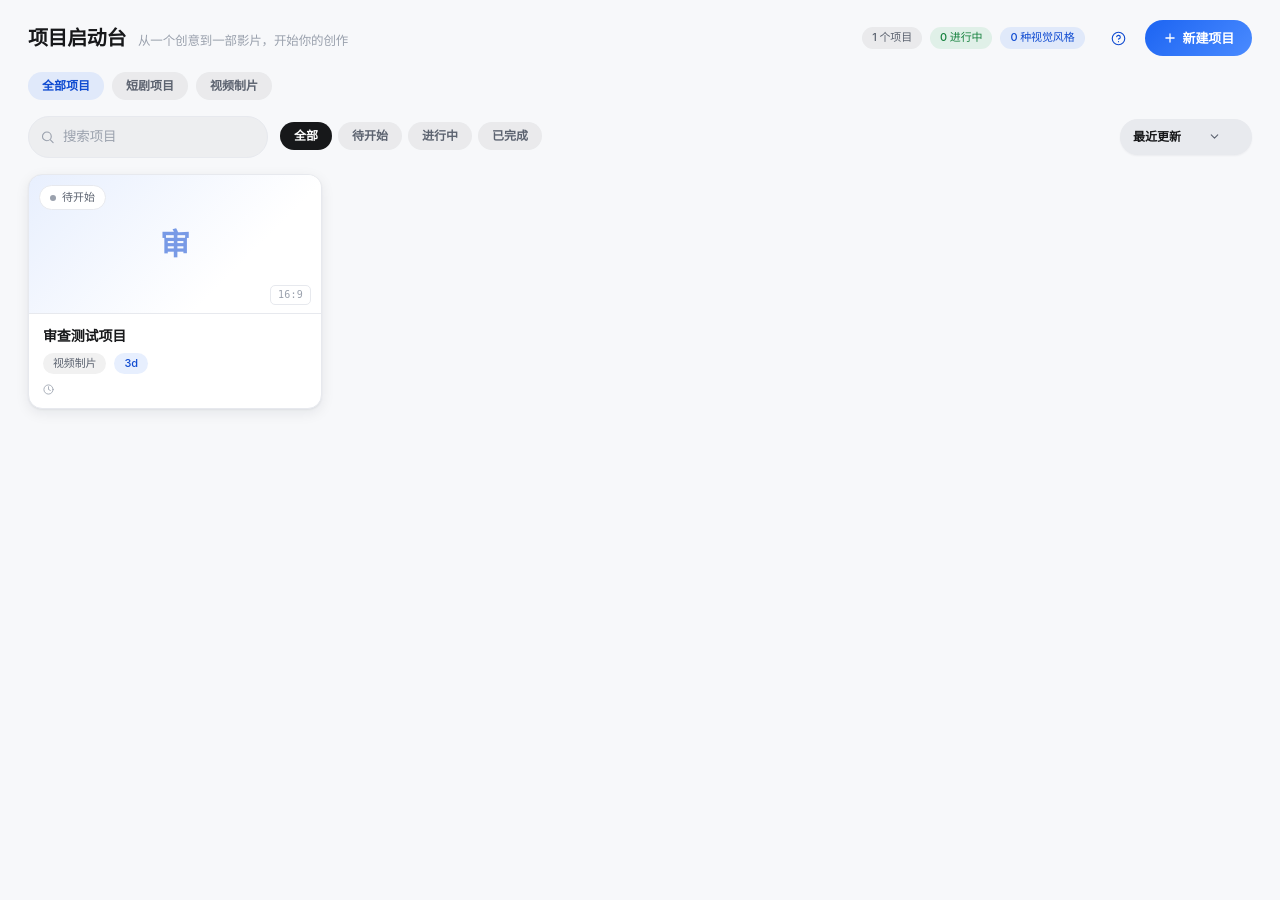
Test case: Creative project entry points › filters project types without changing legacy drama defaults
This screenshot has width=1280, height=900.
Step 1. Click the button "短剧项目" → (150, 86), box [112,72,188,100]
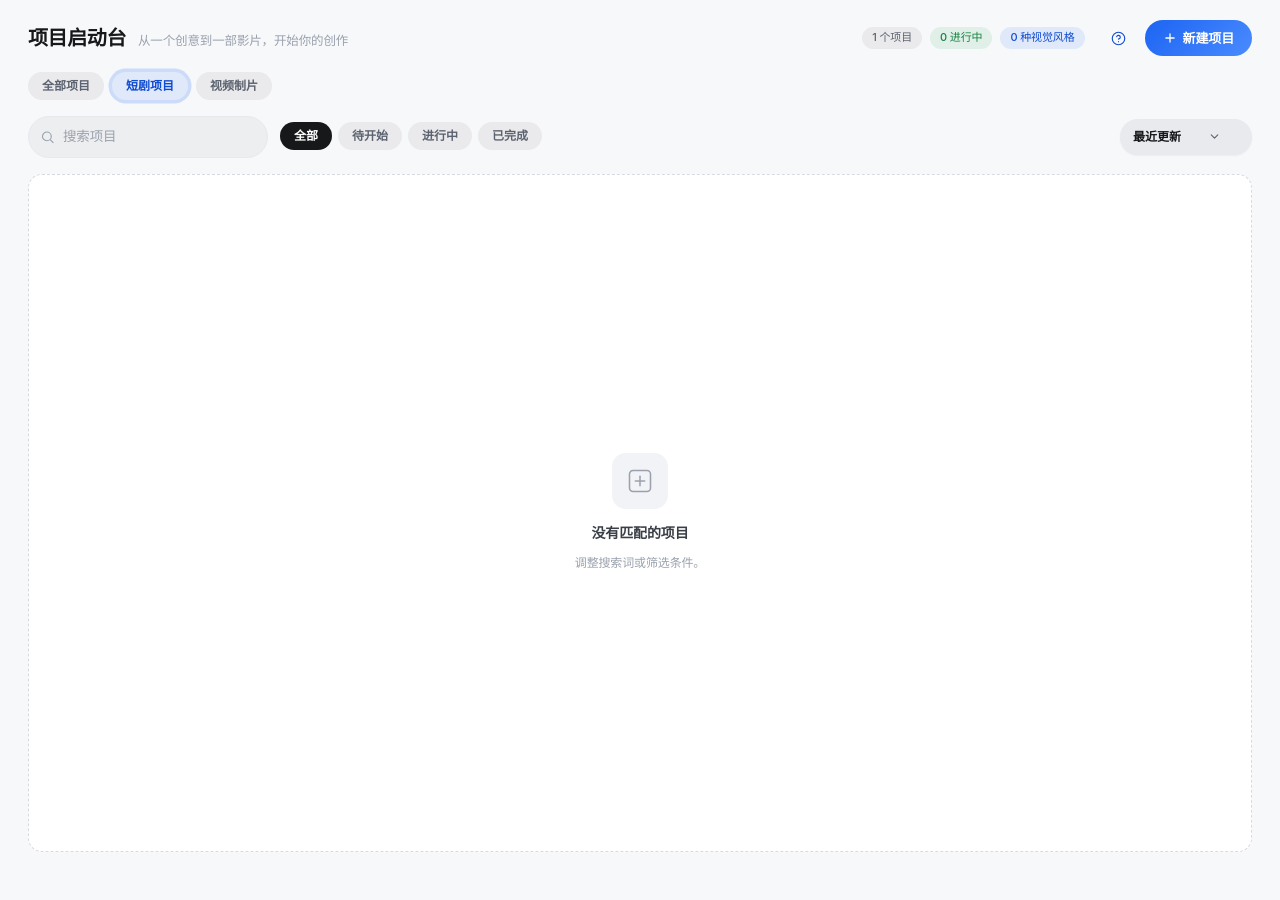
Step 2. Click the button "视频制片" → (234, 86), box [196,72,272,100]
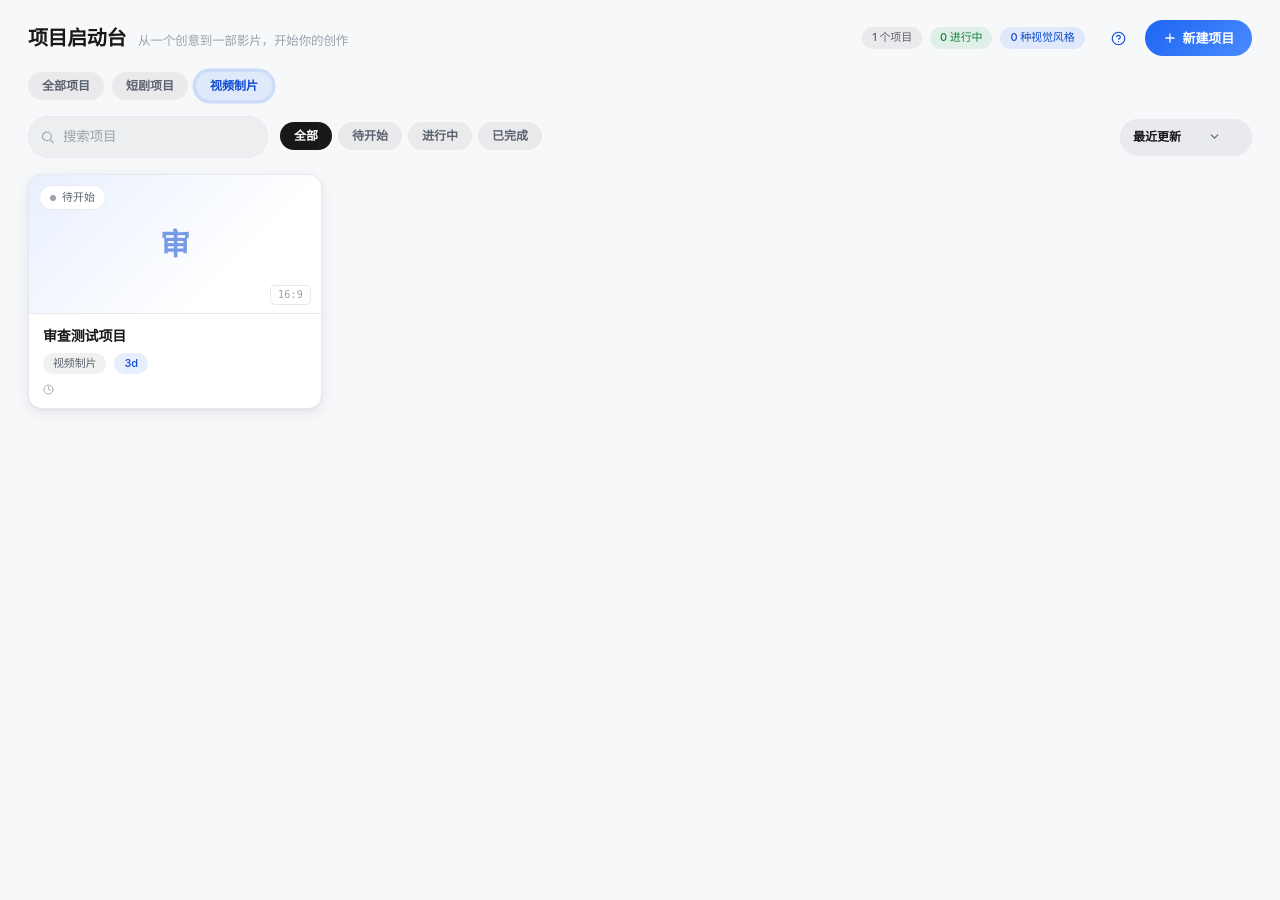
Expected: the button with aria-label "打开项目 审查测试项目" is shown, [28,174,322,409]
